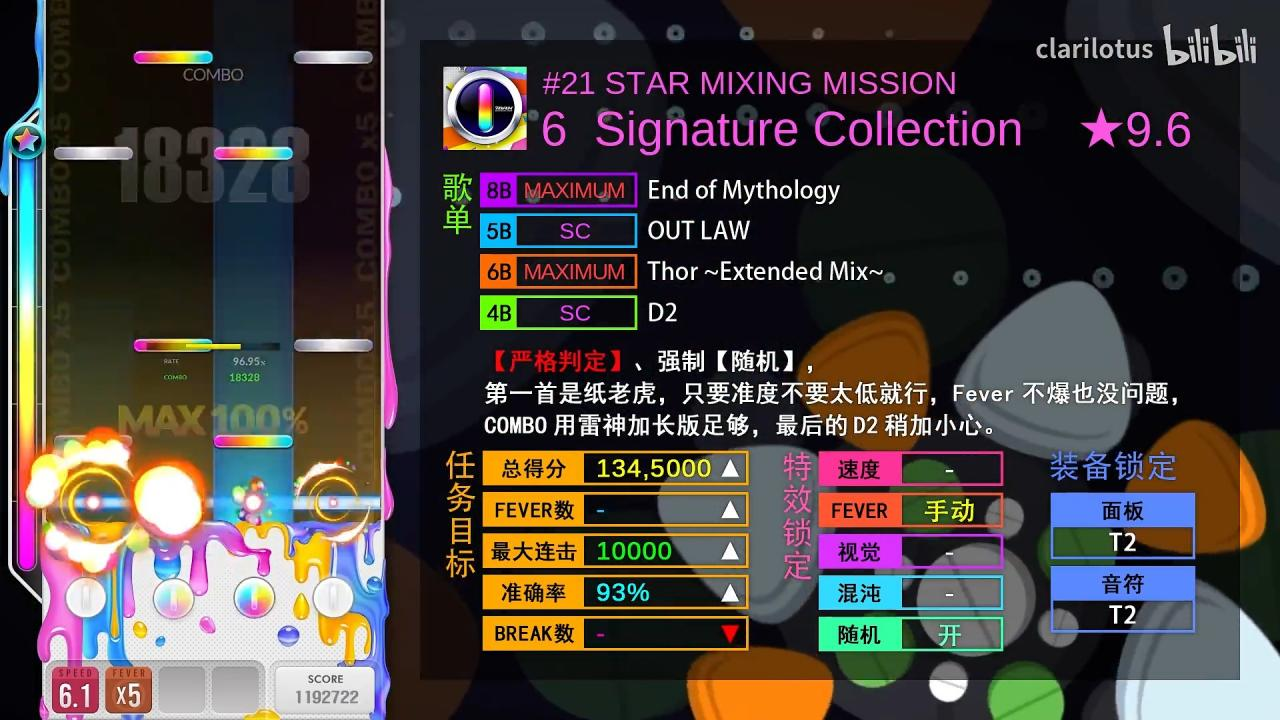note: (54, 146, 133, 161), (134, 338, 213, 353), (214, 434, 293, 449), (134, 50, 212, 64), (294, 339, 374, 352), (214, 147, 293, 160), (53, 435, 132, 448), (295, 50, 373, 63)
